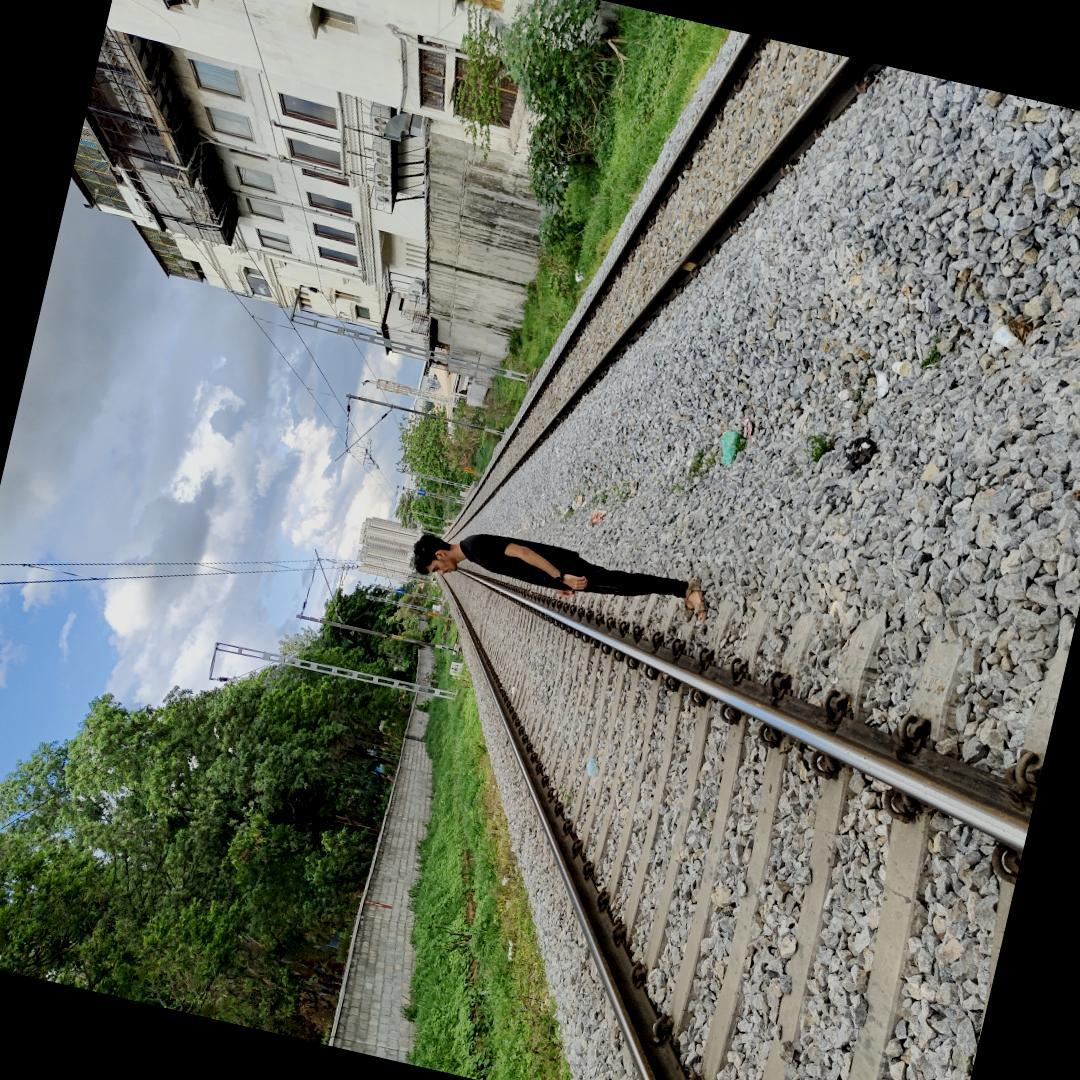standing: (396, 491, 718, 646)
